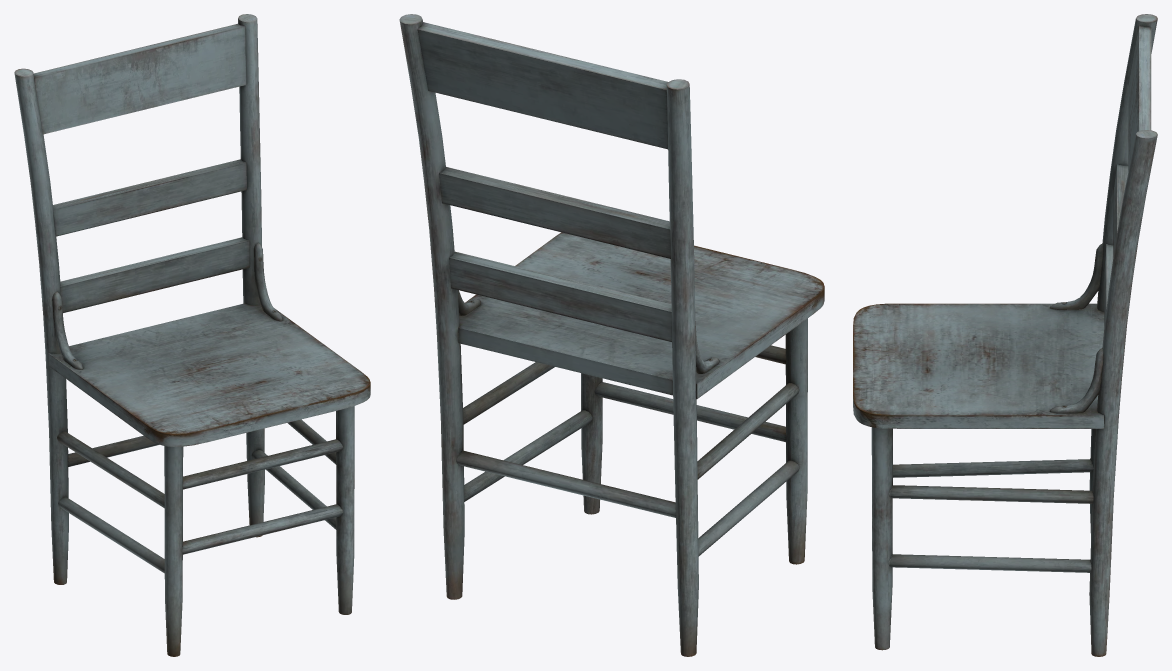
File: painted_wooden_chair_02.glb
The picture shows the model from 3 angles, left to right: view 1: azimuth 30°, elevation 25°; view 2: azimuth 150°, elevation 25°; view 3: azimuth 270°, elevation 25°; orthographic projection. The views are drawn at different scales.
Visible parts, largest first — view 1: painted_wooden_chair_02; view 2: painted_wooden_chair_02; view 3: painted_wooden_chair_02.
Boxes of the visible parts, bbox=[...] form: painted_wooden_chair_02: bbox=[14, 14, 370, 656]; painted_wooden_chair_02: bbox=[399, 14, 824, 656]; painted_wooden_chair_02: bbox=[853, 14, 1157, 656].
Bounding box in the file's own units: 0.6394 × 1.26 × 0.6621.
1 material, 1 textured.
